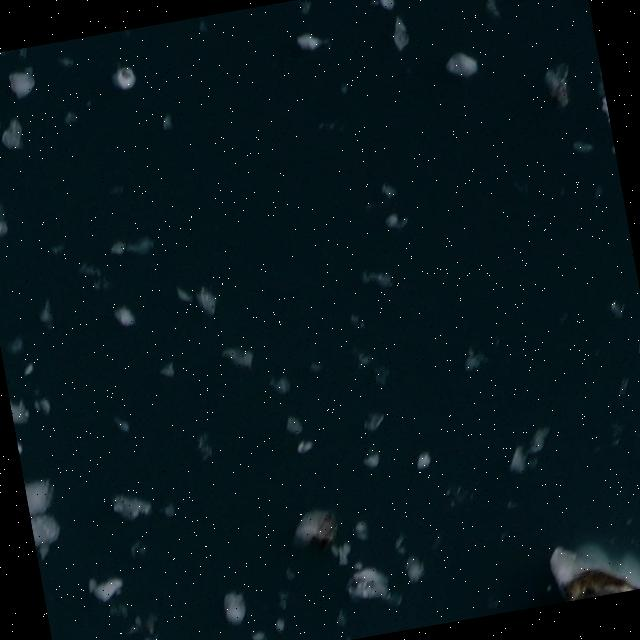seal: (564, 569, 640, 601)
